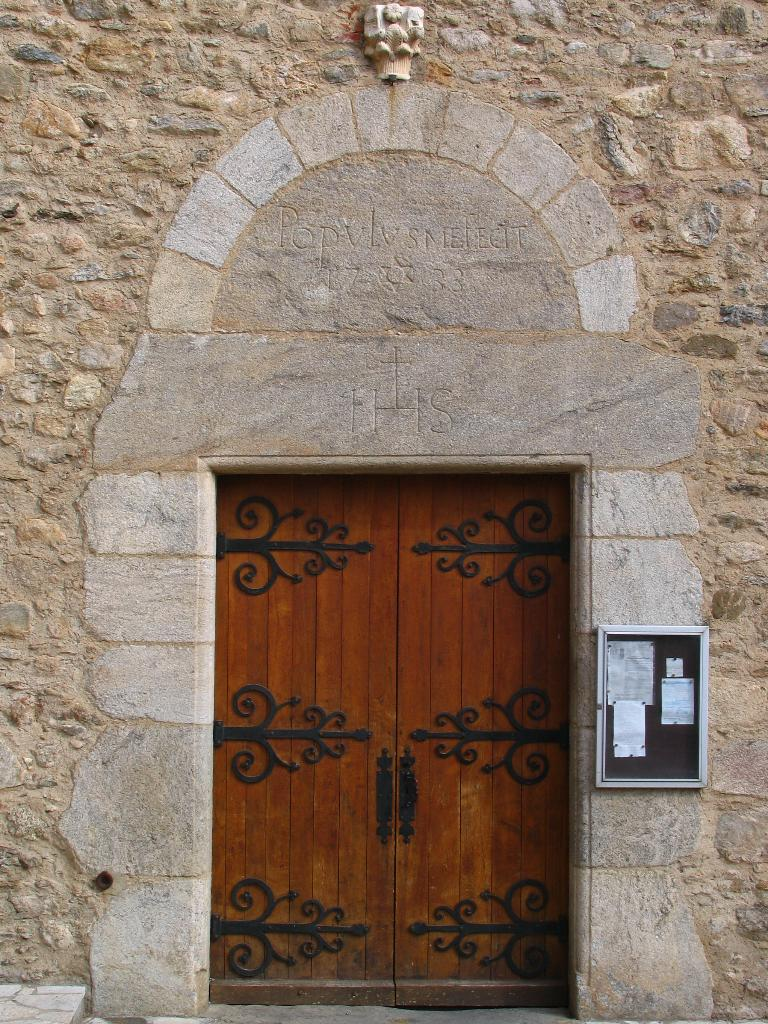door: (221, 481, 392, 990), (401, 475, 566, 988)
handle: (401, 761, 418, 816)
